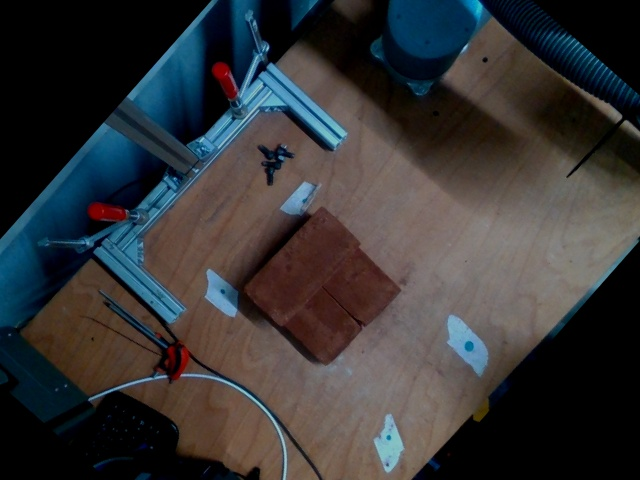brick: (244, 209, 358, 325)
